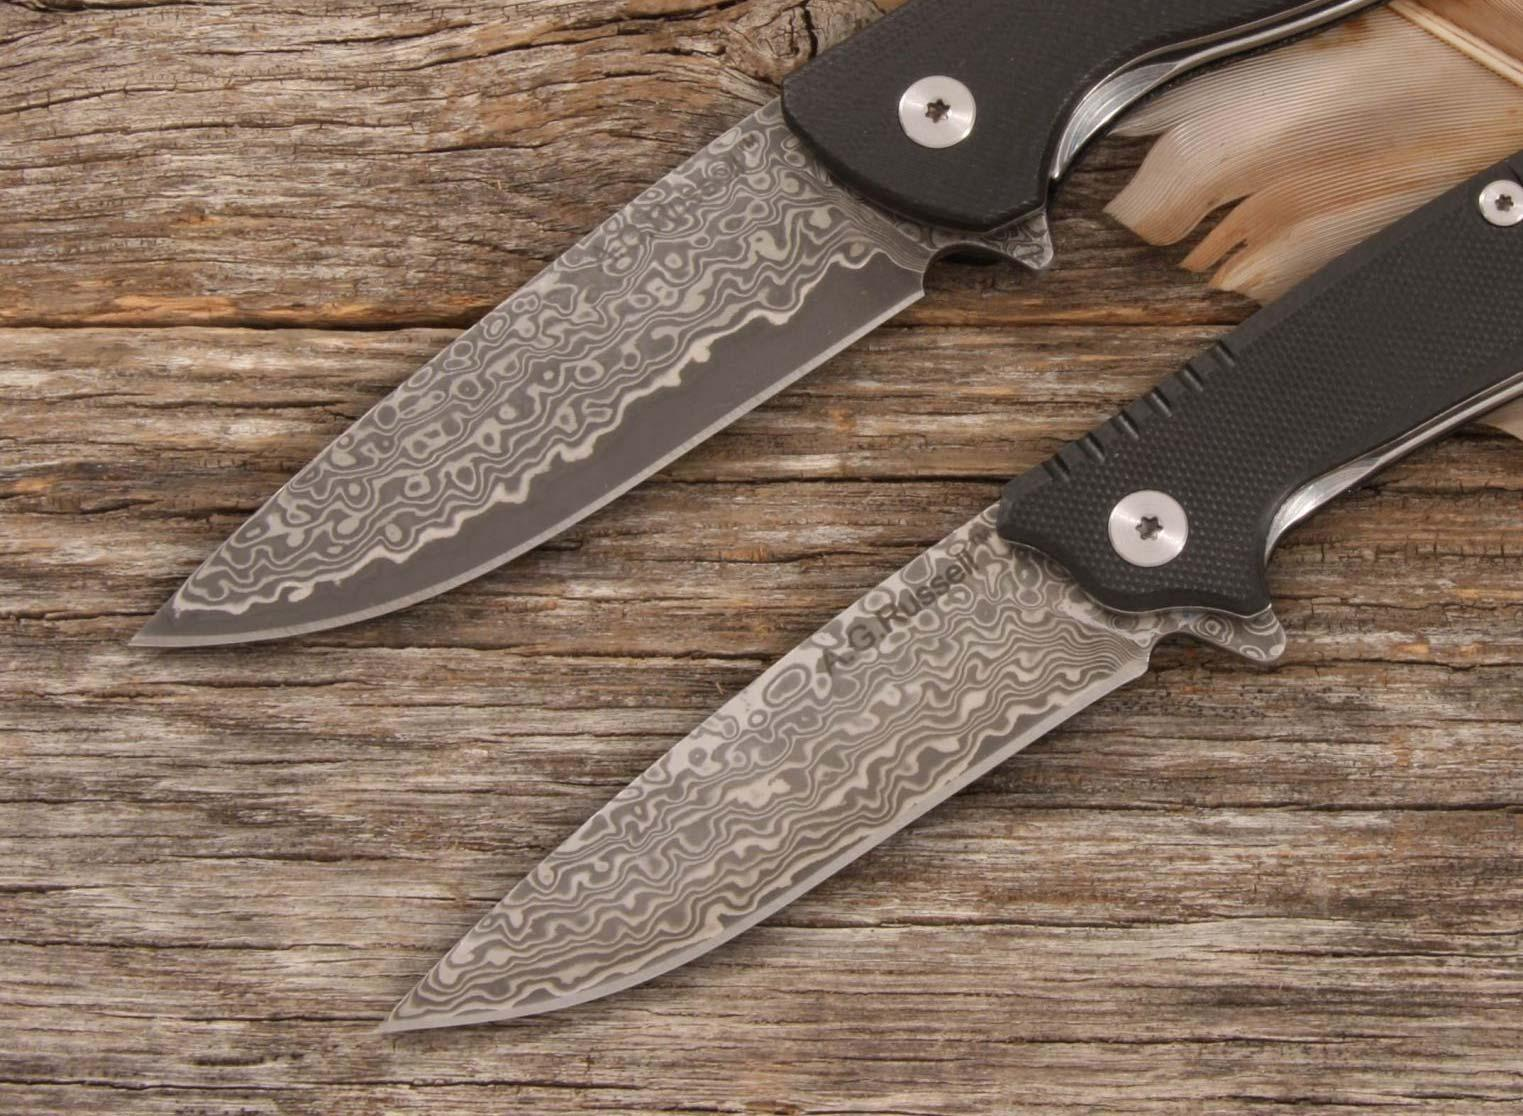faca: (381, 153, 1522, 1029), (135, 0, 1374, 645)
